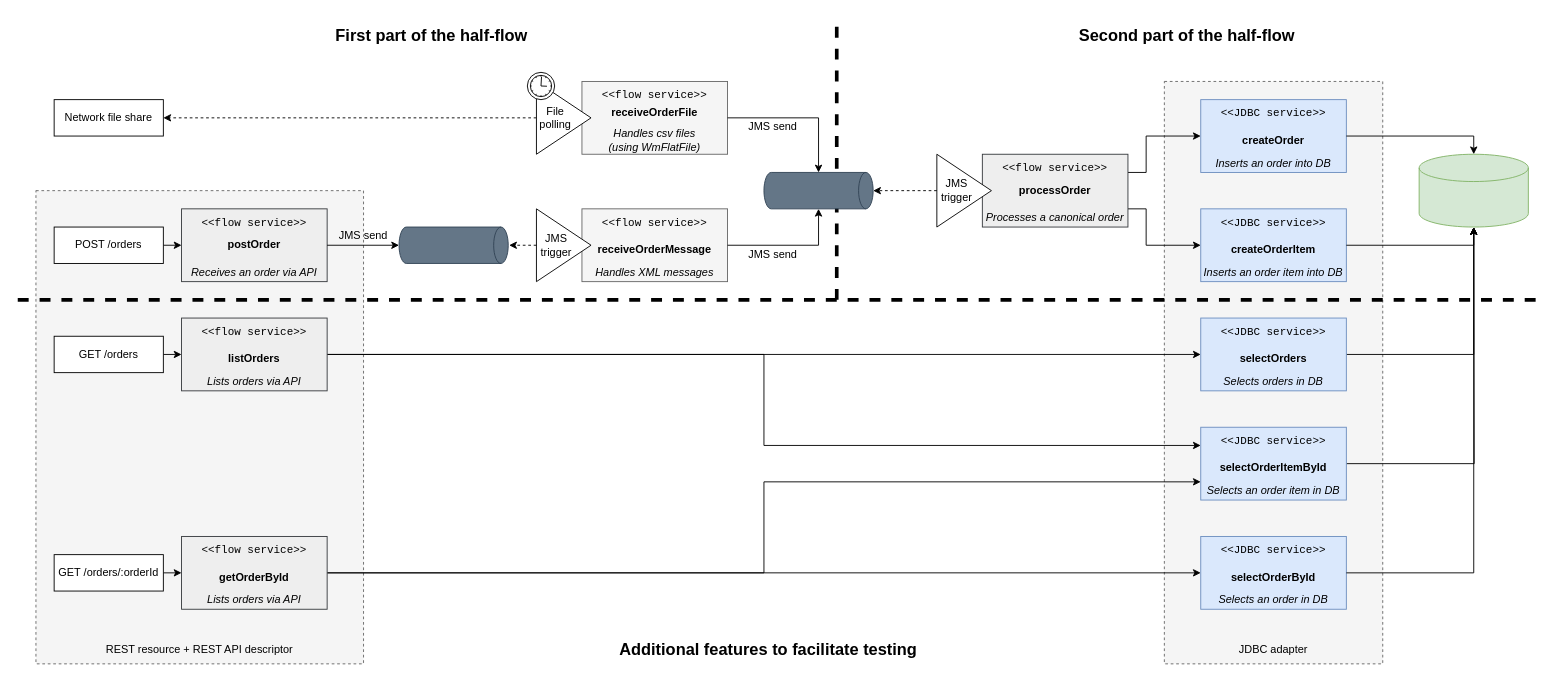
The diagram is 1564 pixels wide and 680 high, and some of its shapes have lost their labels. The shapes that lost their labels are listed below. From the top down, each one's box as (x1, y1, x2, y2) in pixels, then its label:
(763, 172, 873, 209): /orders/requests
(1418, 153, 1528, 227): Orders DB
(398, 226, 508, 263): /orders/posts
